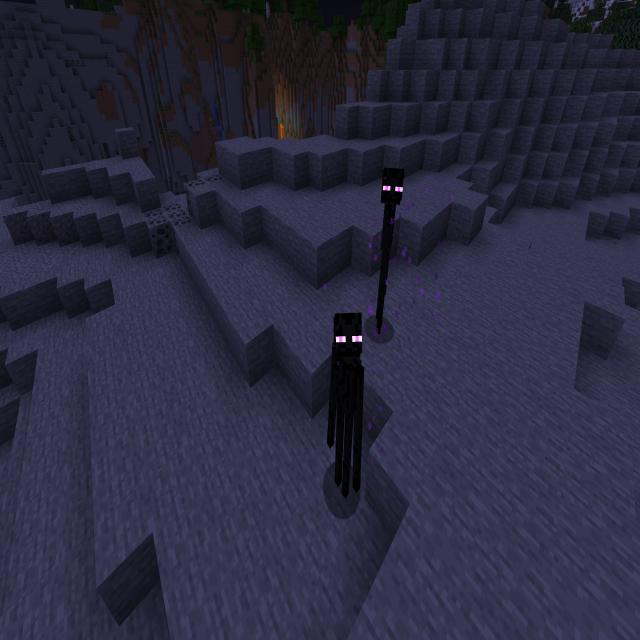Enderman: (326, 308, 366, 501), (374, 162, 406, 340)
